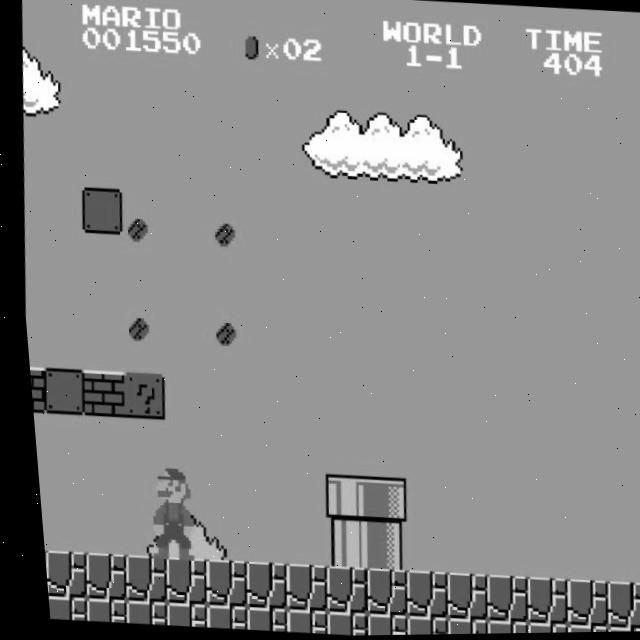0- big_mario: (135, 464, 190, 562)
1- brick_block: (73, 369, 120, 418), (23, 365, 39, 412)
13- mystery_block: (113, 371, 161, 420)
14- pipe: (313, 520, 360, 569), (353, 522, 400, 571)
15- pipe_head: (313, 474, 360, 524), (353, 476, 400, 526)
17- undestructible_block: (72, 552, 120, 601), (192, 559, 240, 608), (513, 577, 561, 626), (152, 556, 199, 606), (273, 563, 320, 613), (313, 565, 360, 615), (433, 572, 480, 622), (554, 579, 601, 629), (113, 554, 160, 603), (233, 561, 280, 610), (353, 568, 400, 617), (393, 570, 440, 619), (473, 575, 520, 624), (593, 582, 640, 631), (35, 549, 79, 598), (73, 597, 118, 624), (113, 599, 158, 626), (313, 610, 358, 637), (234, 606, 278, 633), (194, 604, 239, 630), (154, 602, 198, 628), (274, 609, 318, 635), (38, 595, 78, 621), (354, 613, 398, 636), (394, 615, 438, 636), (434, 618, 478, 635), (474, 619, 518, 635), (514, 622, 558, 634), (554, 625, 598, 634), (595, 627, 638, 634), (634, 585, 640, 632)
3- empty_block: (34, 366, 81, 416), (75, 187, 122, 235)
